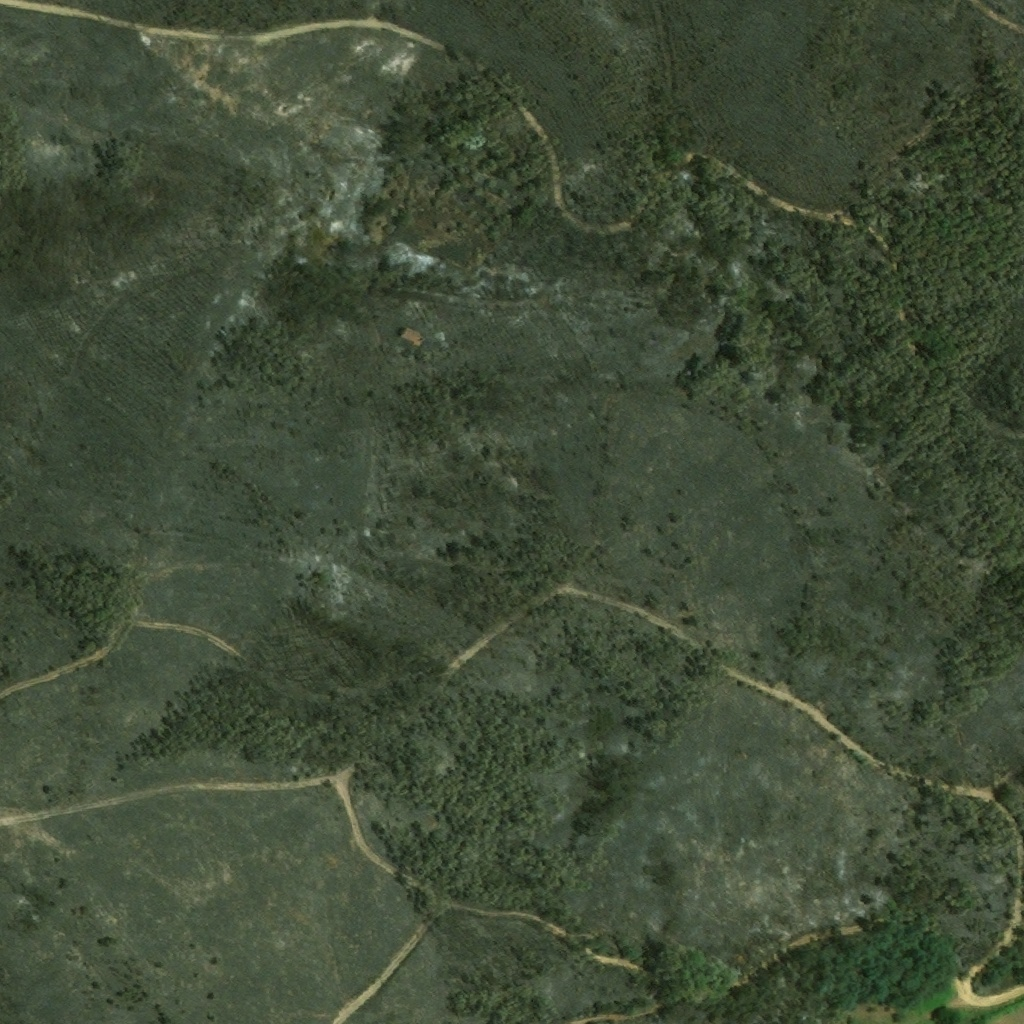0 no-damage: (399, 327, 426, 348)
